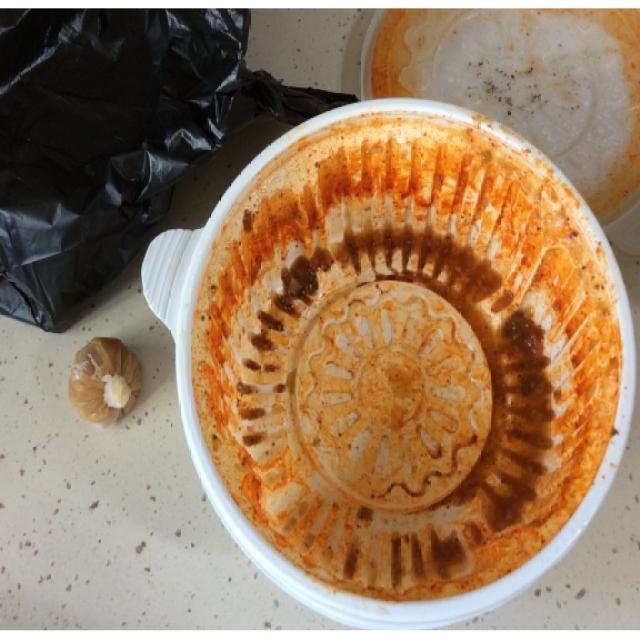bottle: (141, 97, 640, 639)
